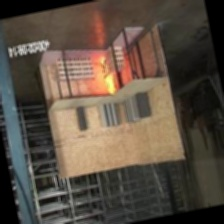fire: (94, 64, 119, 100)
